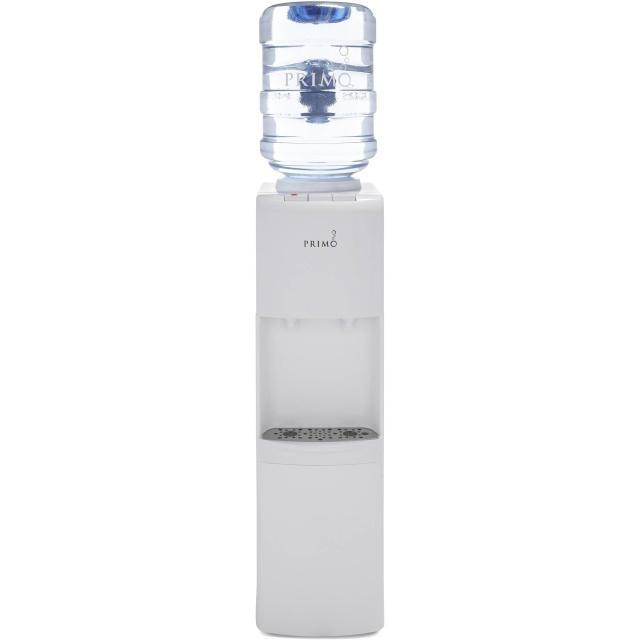Dispenser: (255, 1, 384, 636)
